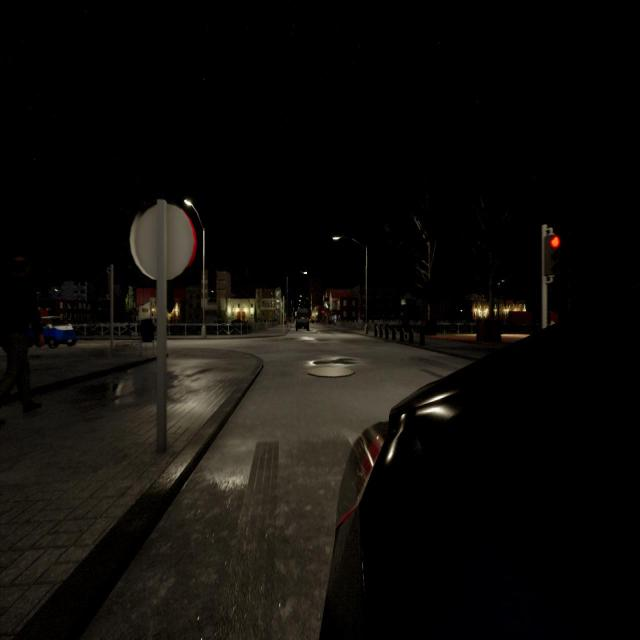Pedestrian: (1, 248, 42, 418)
Traffic_Signs: (130, 199, 196, 281)
Vehicle: (319, 289, 639, 640), (41, 316, 77, 350), (295, 308, 310, 332)
traffic_light: (543, 234, 561, 277), (104, 272, 112, 298)
